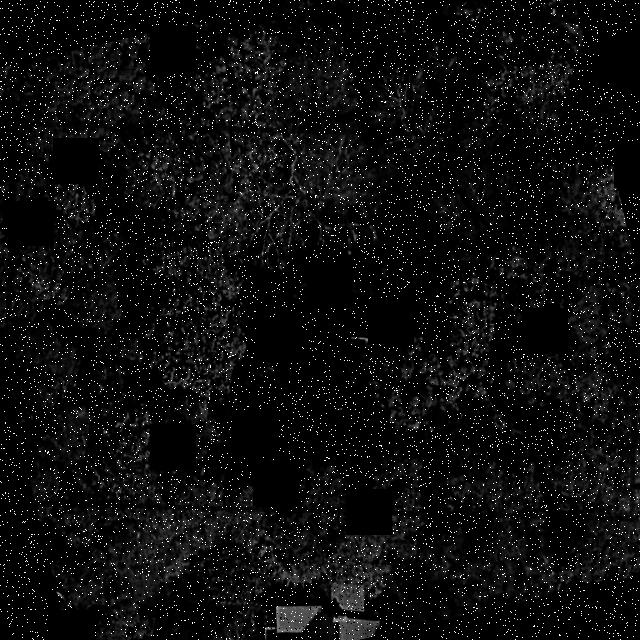House: (283, 220, 390, 344)
